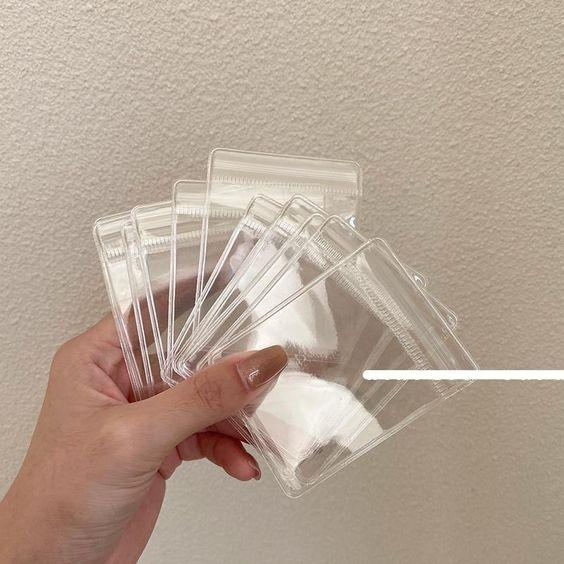PVC: (88, 145, 458, 486), (204, 237, 481, 501)
